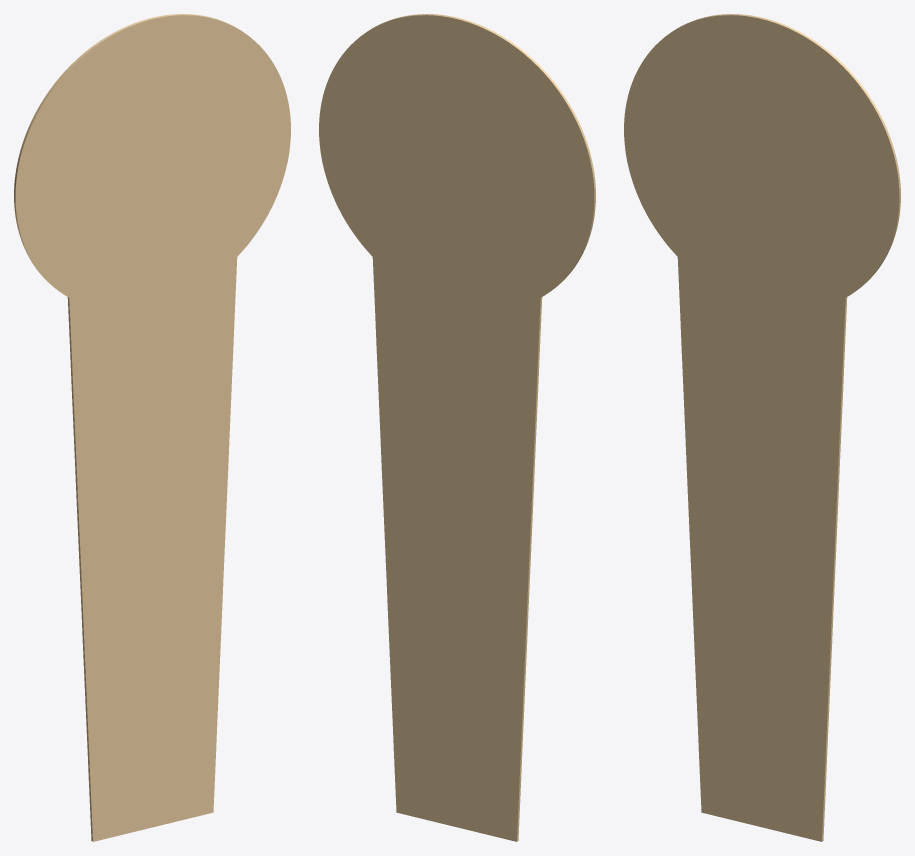
File: IPSC_popper_850.obj
3 renders of one model, left to right at view 1: azimuth 30°, elevation 25°; view 2: azimuth 150°, elevation 25°; view 3: azimuth 330°, elevation 25°, orthographic.
Parts seen in each view (by area): view 1: ipscFBXASC032popperFBXASC032850_geometry1.005; view 2: ipscFBXASC032popperFBXASC032850_geometry1.005; view 3: ipscFBXASC032popperFBXASC032850_geometry1.005.
Boxes of the visible parts, <box> form: ipscFBXASC032popperFBXASC032850_geometry1.005: <box>14,14,290,841</box>; ipscFBXASC032popperFBXASC032850_geometry1.005: <box>319,14,595,841</box>; ipscFBXASC032popperFBXASC032850_geometry1.005: <box>624,14,900,841</box>.
Size of the model in its own units: 0.00304 by 0.00852 by 3e-05.
